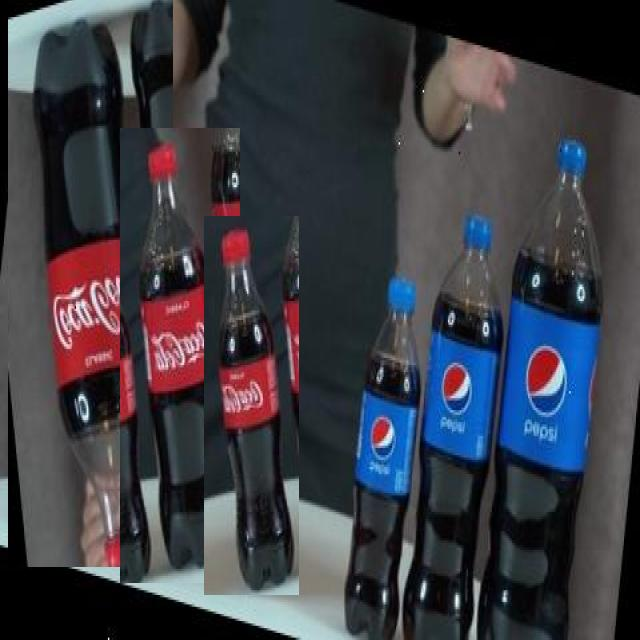coca-cola: (8, 0, 173, 567), (120, 128, 240, 583), (204, 216, 299, 595)
